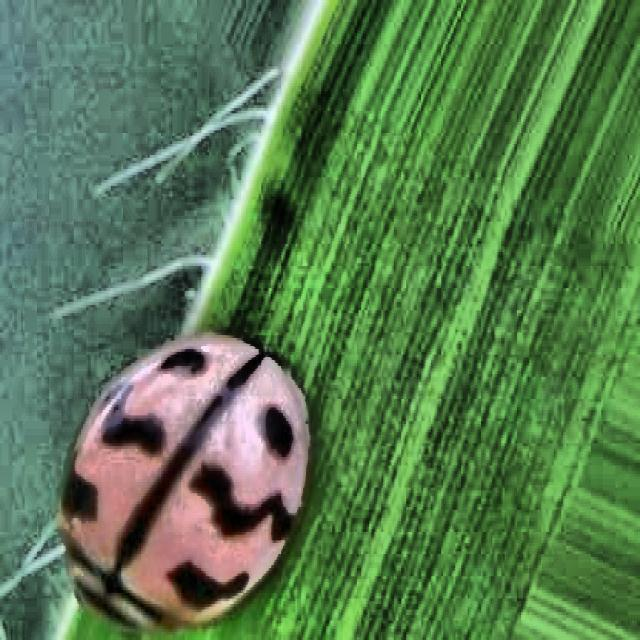Asian-Lady-beetle: (45, 321, 346, 640)
